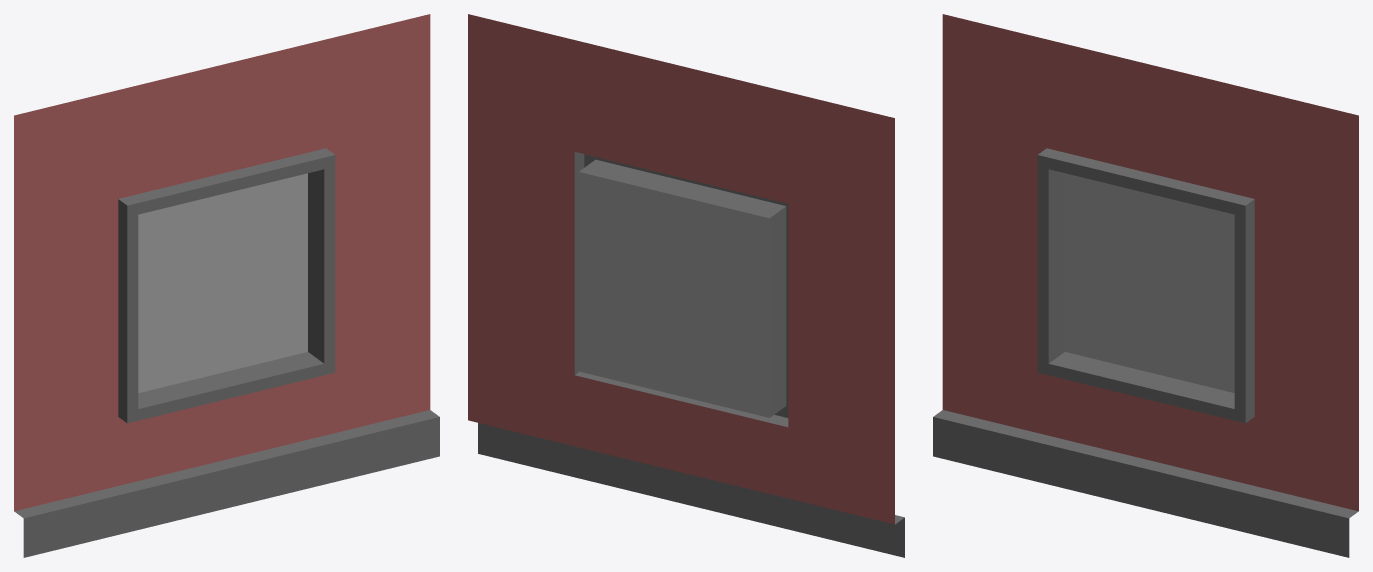
Rendered from Wall_Window_TEST.fbx.
3 views of the same model, side by side, from view 1: azimuth 30°, elevation 25°; view 2: azimuth 150°, elevation 25°; view 3: azimuth 330°, elevation 25° (orthographic). The views are drawn at different scales.
Visible parts, largest first — view 1: Wall_Window_01; view 2: Wall_Window_01; view 3: Wall_Window_01.
Part boxes in pixels (<box>): Wall_Window_01: <box>14,14,439,557</box>; Wall_Window_01: <box>468,14,904,557</box>; Wall_Window_01: <box>933,14,1358,557</box>.
Size of the model in its own units: 4 by 4 by 0.278.
